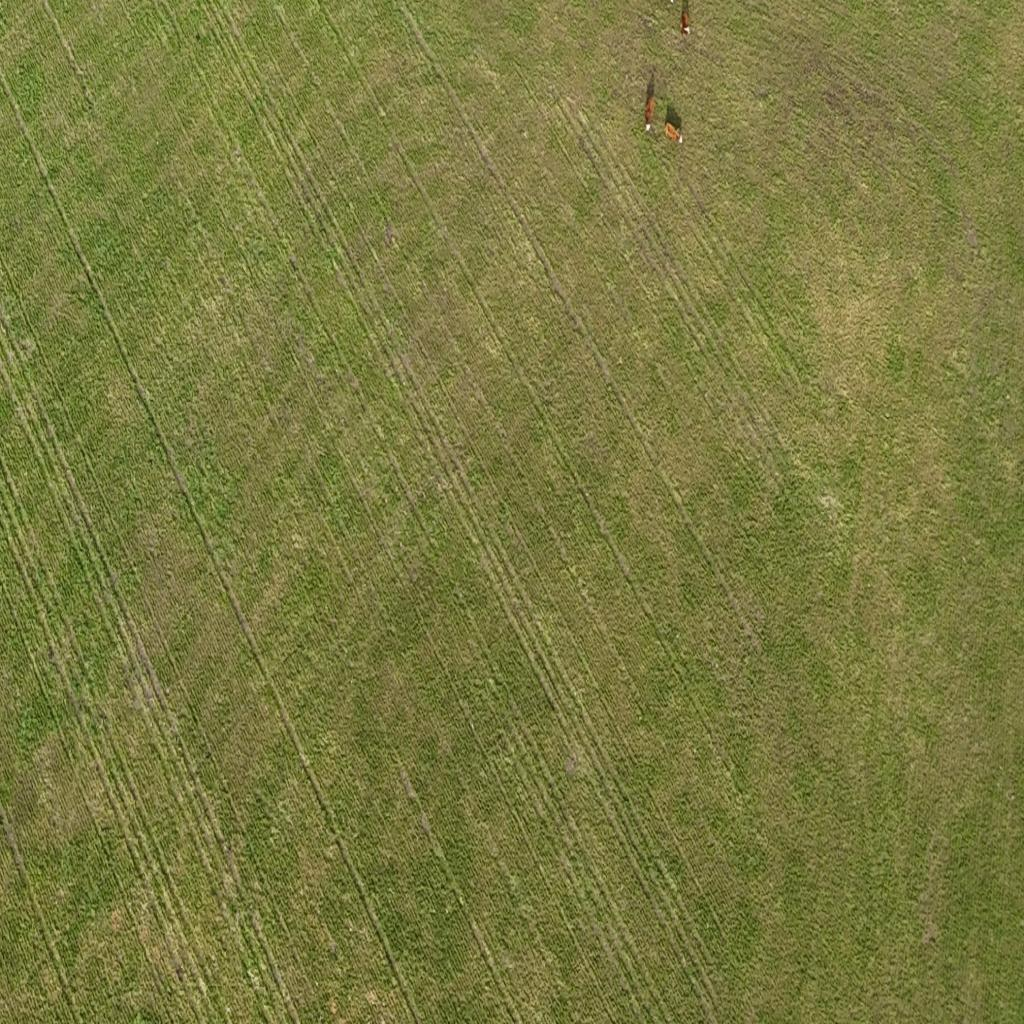cow: (660, 110, 686, 148), (644, 78, 656, 128), (680, 0, 692, 38)
